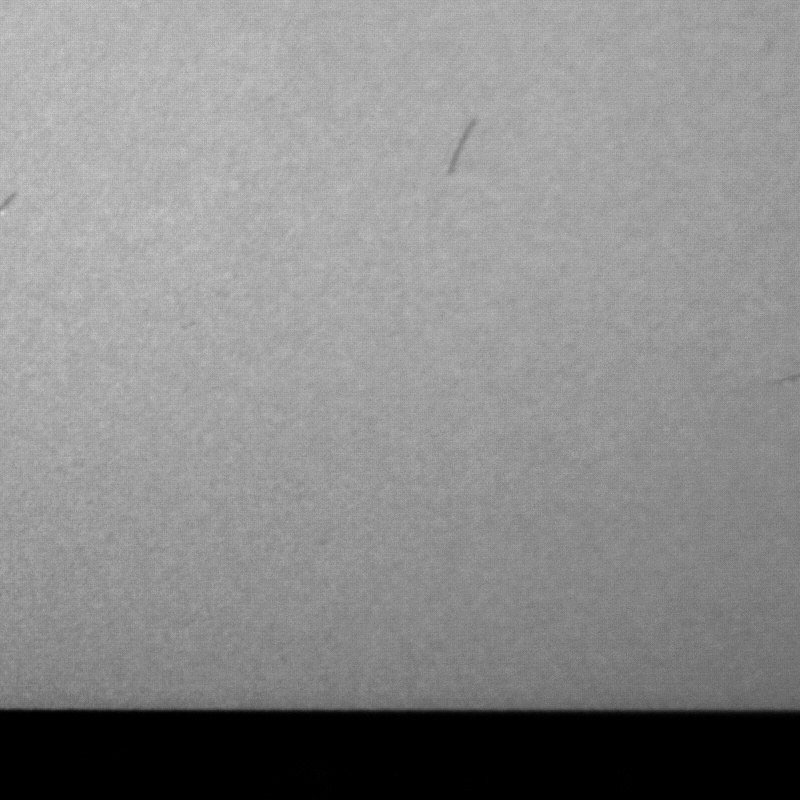defect: (448, 118, 483, 176), (1, 187, 18, 214)
